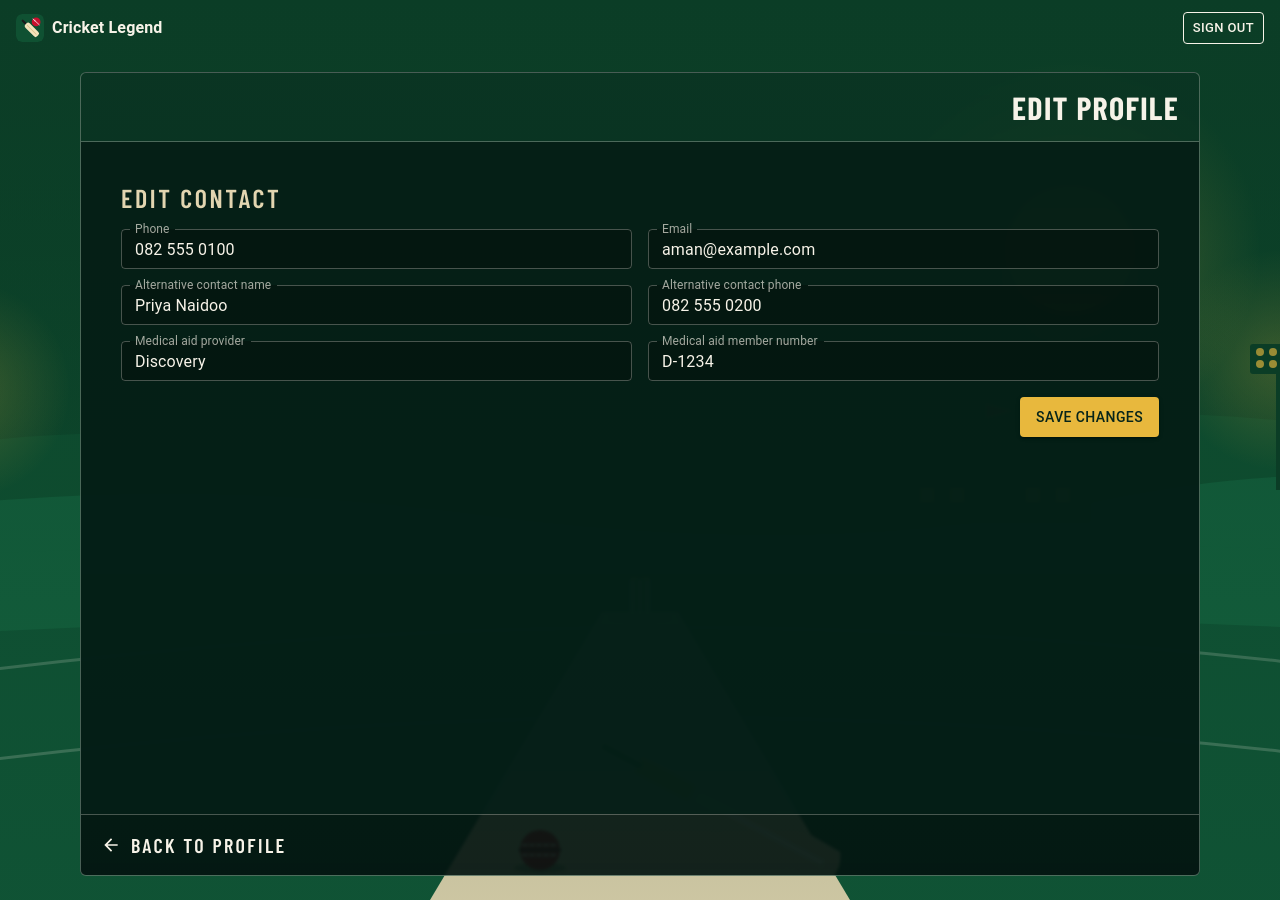
Test case: the dirty leave guard on a Profile edit view › the footer Back on a clean form leaves at once
Check: the form with test id "my-player-edit-form" is shown, box top-left (121, 229), bottom-right (1159, 437)
Click the button "Back to Profile".
click(194, 845)  # box top-left (101, 823), bottom-right (287, 867)
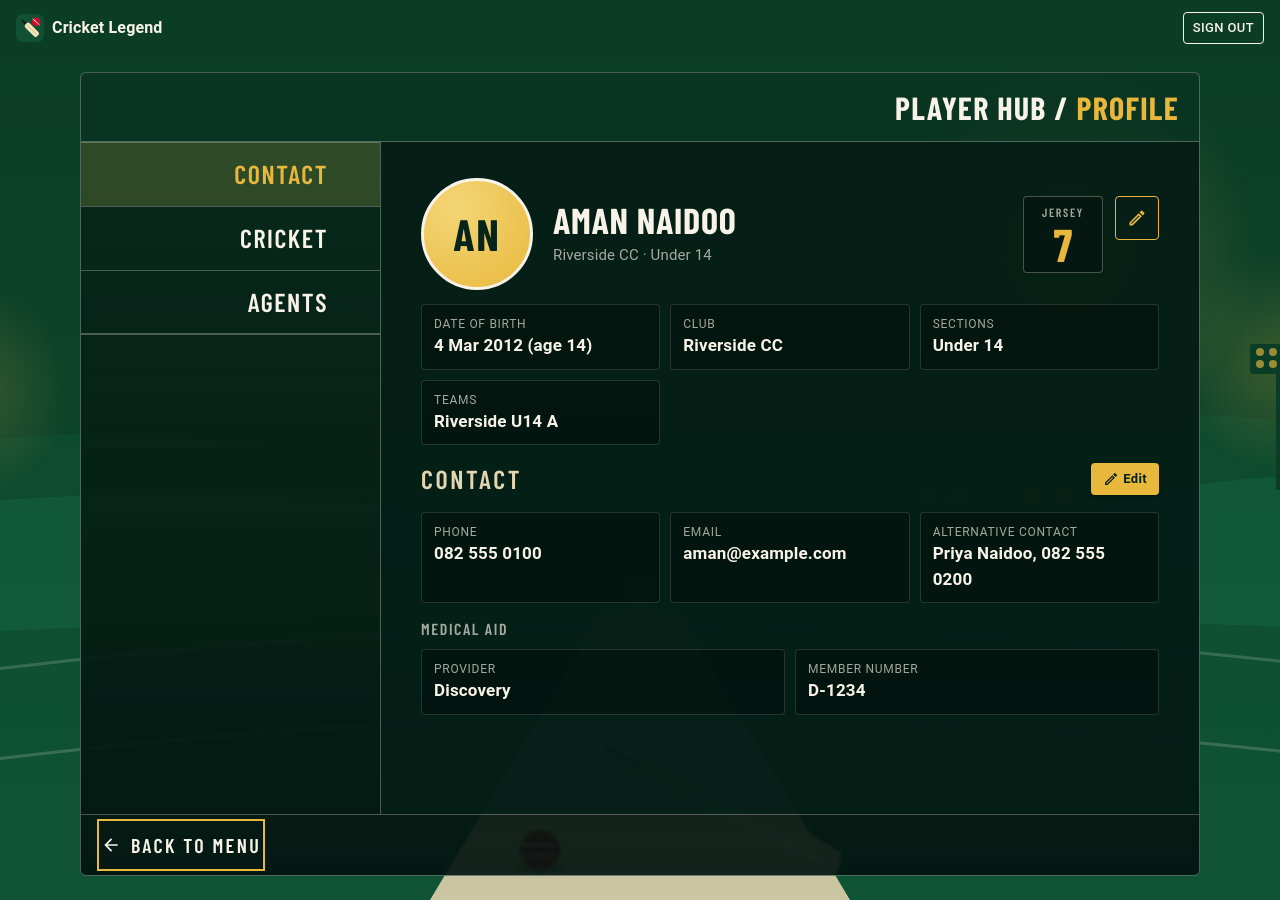
Check: the element with test id "hub-profile" is shown, box top-left (421, 178), bottom-right (1159, 714)
